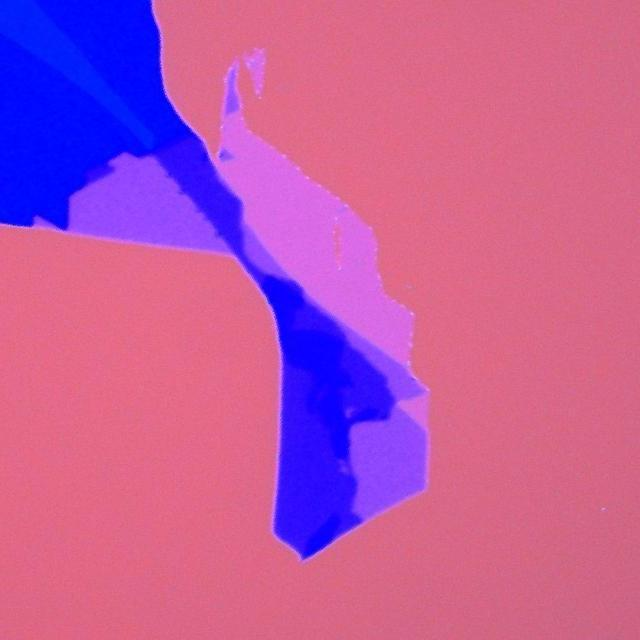monolayer-eWW4: (218, 110, 414, 362)
